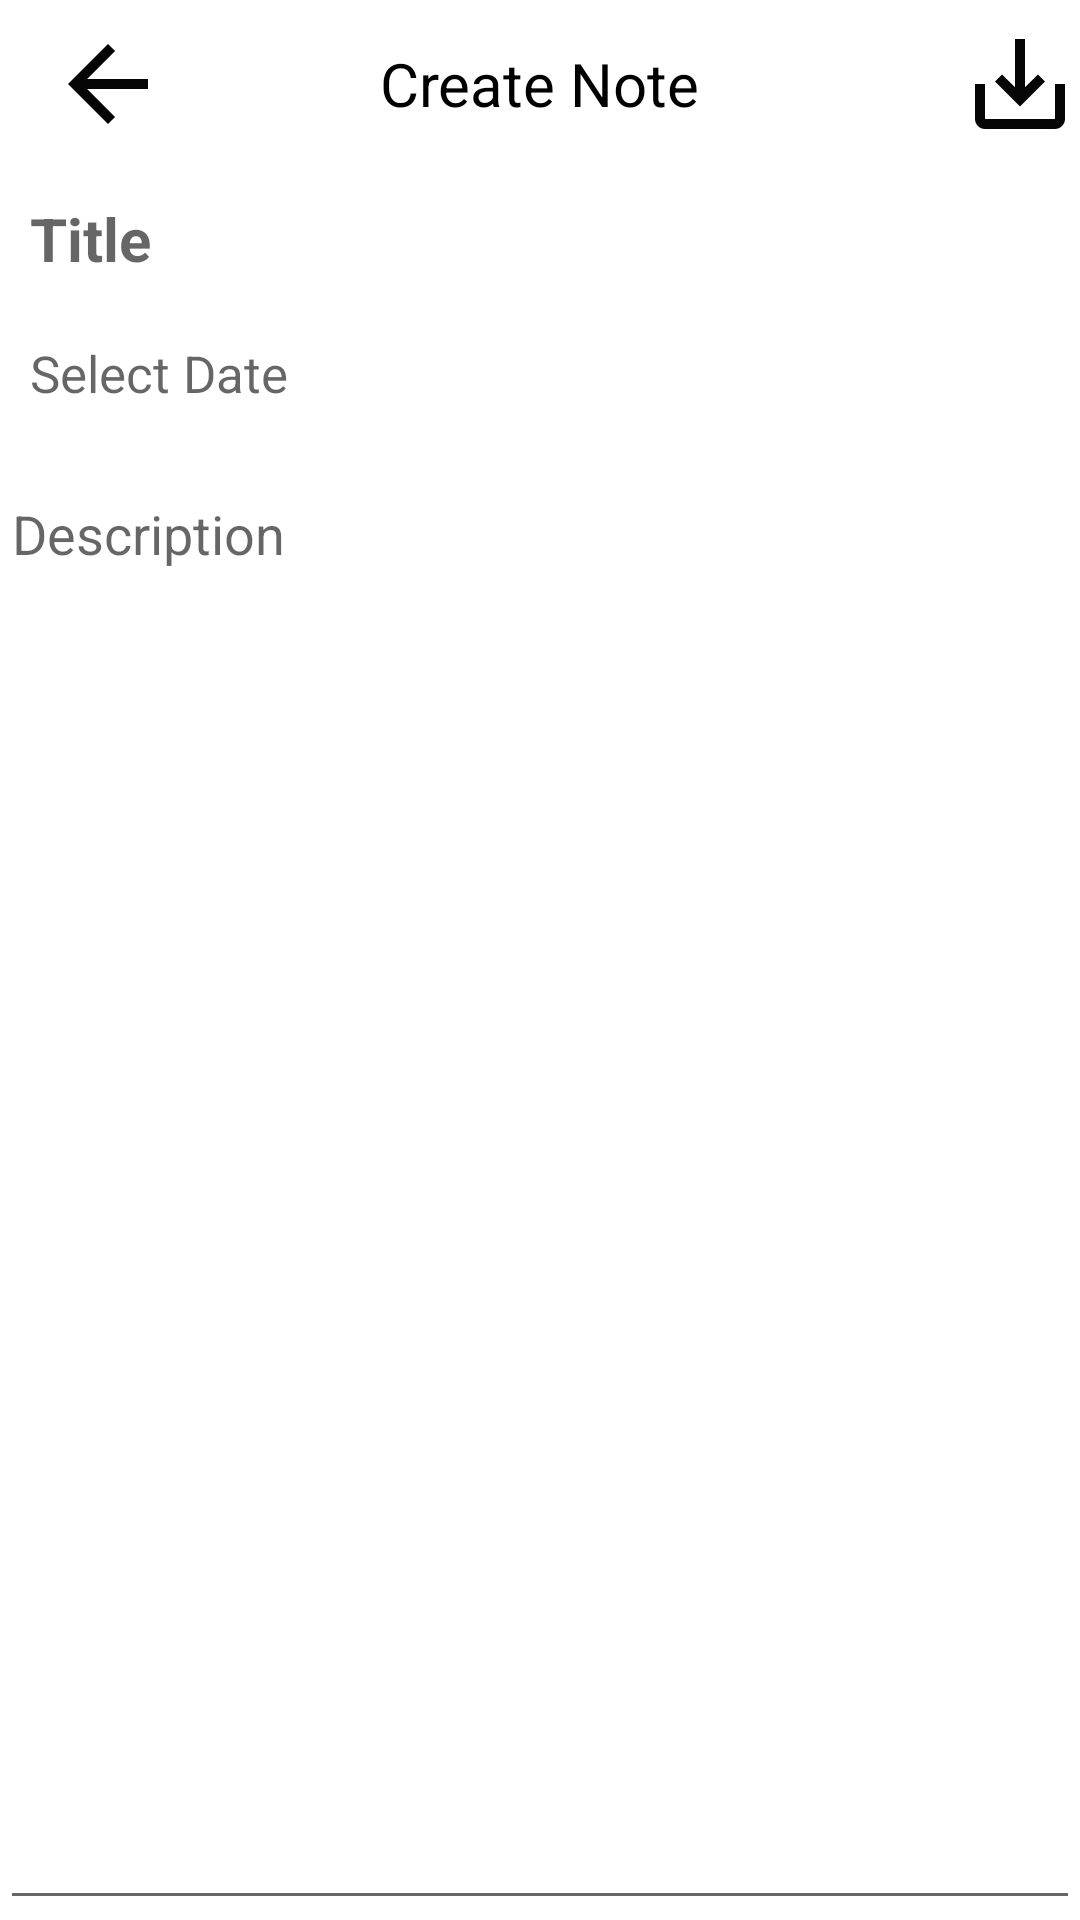

Where icons sit on this 1080 x 1920 app screen, as (x1, y1, x2, y2):
arrow back: (68, 44, 148, 124)
save: (975, 39, 1065, 129)
